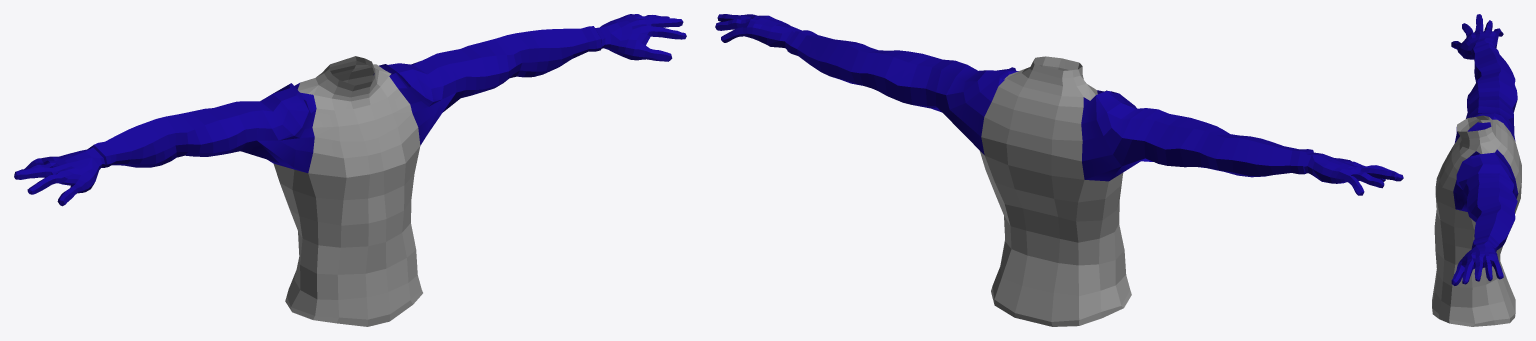
File: cuerpo.obj
3 renders of one model, left to right at view 1: azimuth 30°, elevation 25°; view 2: azimuth 150°, elevation 25°; view 3: azimuth 270°, elevation 25°, orthographic. The views are drawn at different scales.
Visible parts, largest first — view 1: Brazos1; view 2: Brazos1; view 3: Brazos1.
Part boxes in pixels (x1,y1,x2,y2): Brazos1: (14, 14, 686, 326); Brazos1: (715, 14, 1403, 326); Brazos1: (1432, 14, 1521, 326).
Bounding box in the file's own units: 183 × 62.28 × 26.8.
